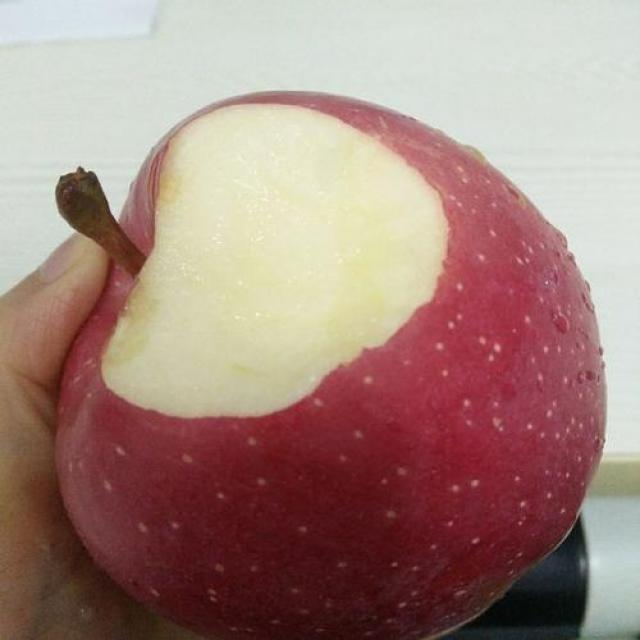Rotten: (51, 73, 608, 640)
